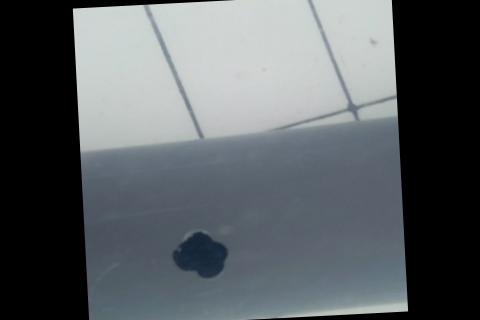kebocoran: (166, 226, 233, 284)
